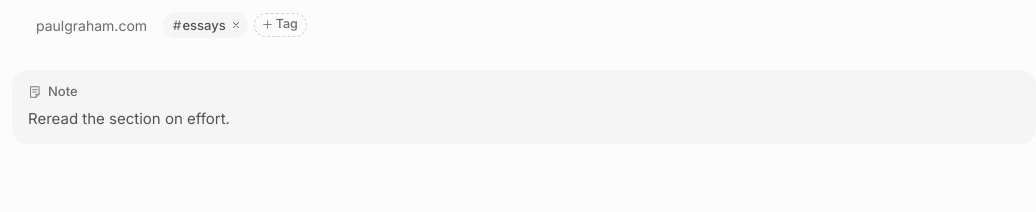
Test: Reader meta › saves the note on blur and shows it before the request resolves
Click the button with aria-label "Edit note": (129,118) [28, 106, 1020, 132]
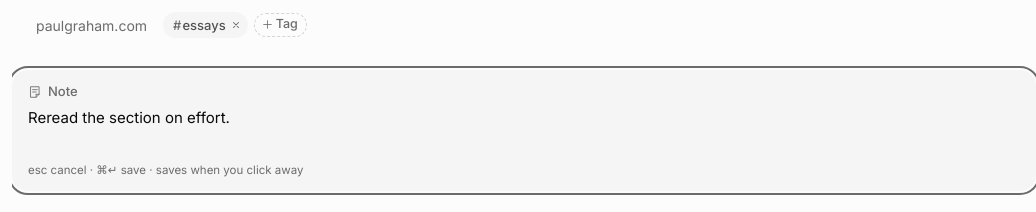
Replace the text in the text box named "note" with "Keep this paragraph.": (524,131) [28, 104, 1020, 158]
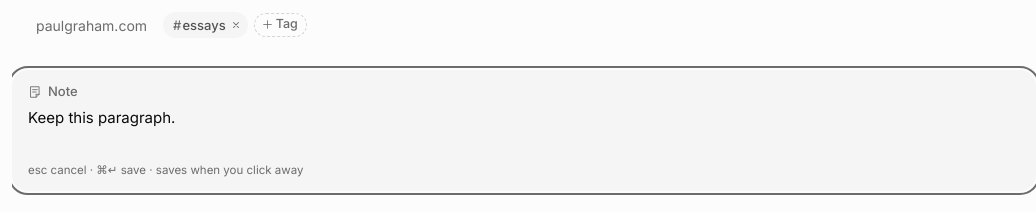
Leave the text box named "note", box [28, 104, 1020, 158]
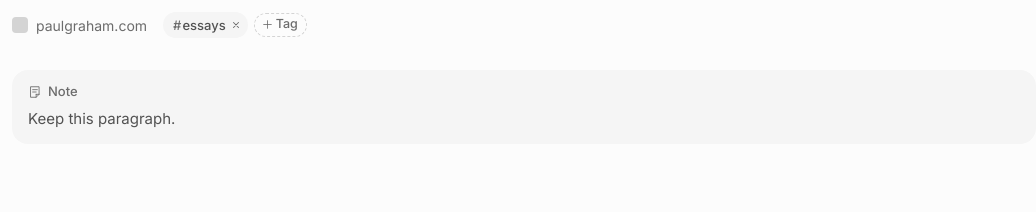
Check: the button "Keep this paragraph." is shown, box [28, 106, 1020, 132]
